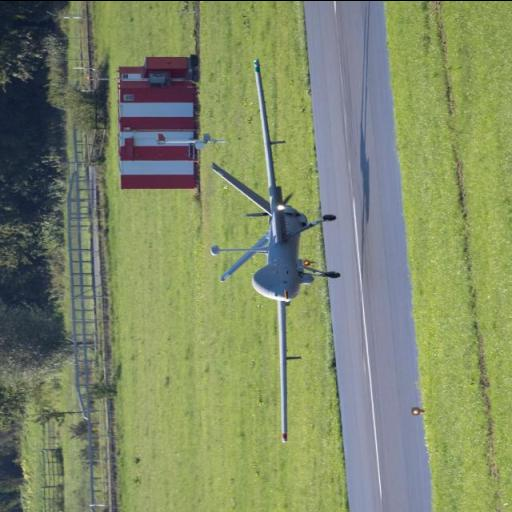uav: (204, 58, 342, 444)
